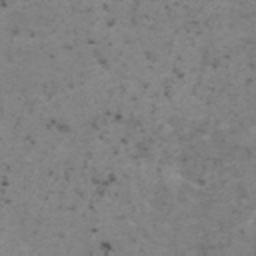Oxide scale of temperature system: (24, 18, 220, 187), (198, 244, 215, 256), (100, 241, 113, 256), (237, 184, 248, 199), (0, 176, 9, 187), (11, 26, 20, 36)
